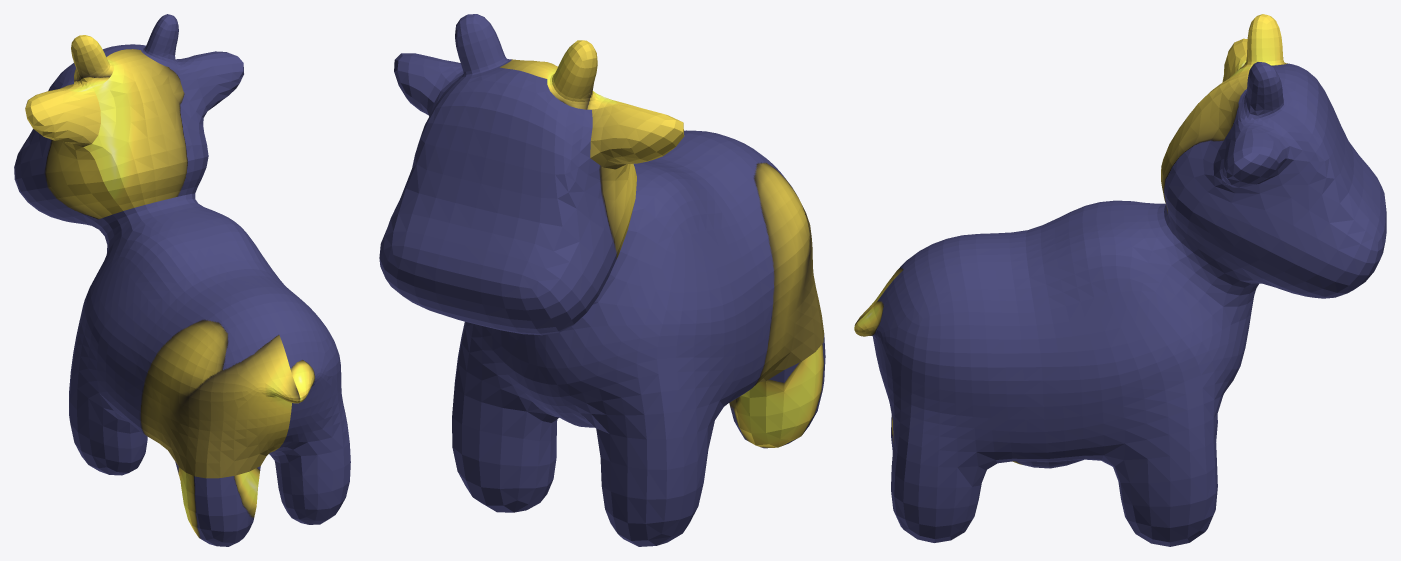
The model's file is raw_spot.glb.
3 views of the same model, side by side, from view 1: azimuth 30°, elevation 25°; view 2: azimuth 150°, elevation 25°; view 3: azimuth 270°, elevation 25° (orthographic). The views are drawn at different scales.
Visible parts, largest first — view 1: spot; view 2: spot; view 3: spot.
Boxes of the visible parts, <box> form: spot: <box>14,14,350,546</box>; spot: <box>379,14,825,546</box>; spot: <box>854,14,1386,546</box>.
Bounding box in the file's own units: 0.549 × 0.984 × 1.
Materials: 1 (1 with a texture image).
